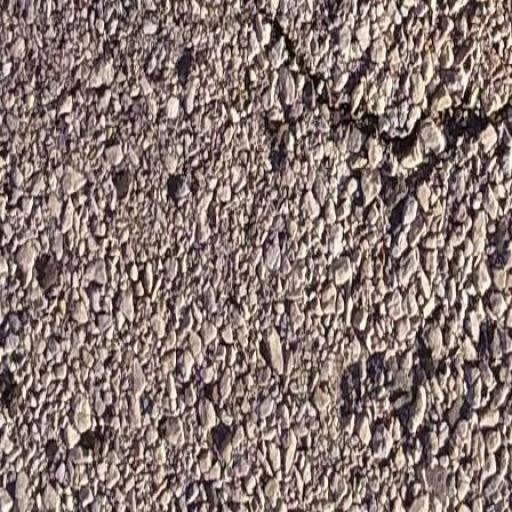spalling: (240, 4, 507, 163)
